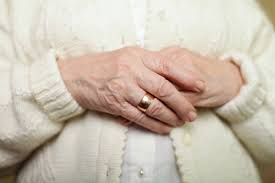hand: (46, 39, 250, 134)
